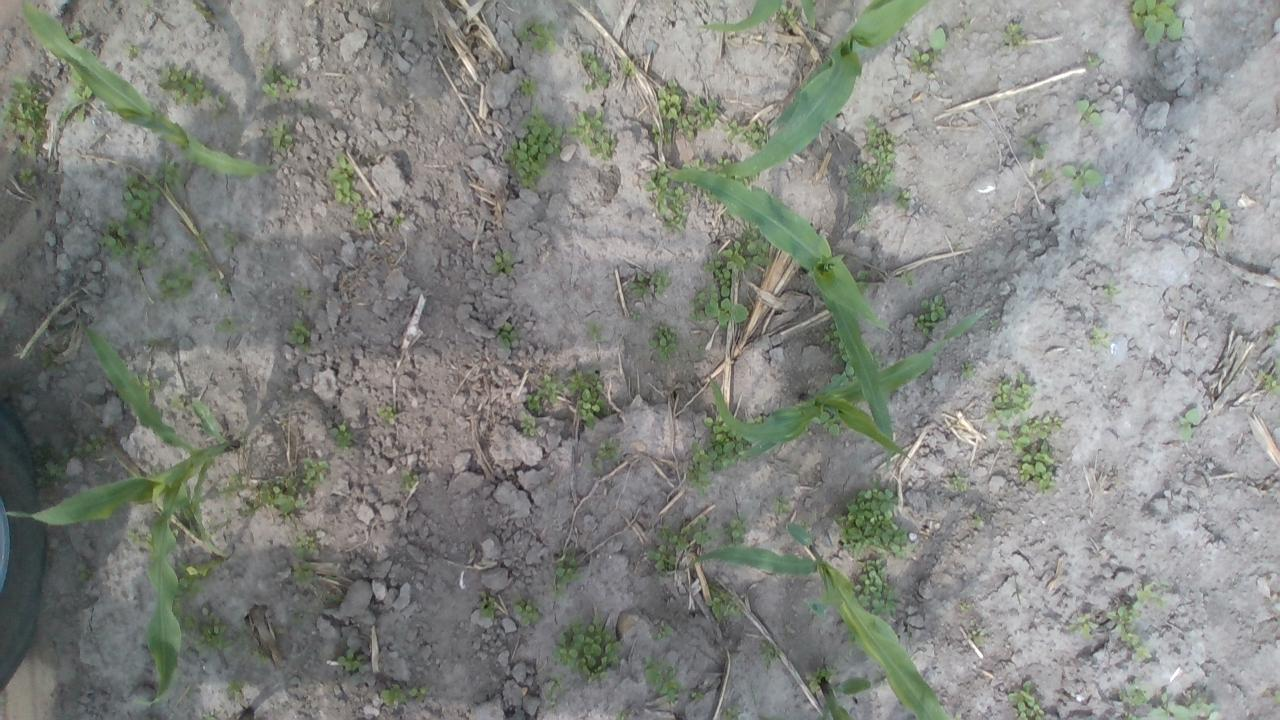Maize: (1, 322, 240, 706), (658, 166, 895, 465), (692, 523, 962, 720), (17, 0, 275, 180), (710, 308, 988, 456), (708, 0, 936, 179), (695, 0, 820, 32), (810, 672, 872, 720)
Weeds: (834, 482, 916, 561), (500, 107, 562, 191), (554, 616, 624, 684), (844, 160, 895, 230), (642, 162, 691, 231), (154, 64, 227, 109), (846, 554, 898, 617), (702, 411, 754, 471), (0, 74, 46, 135), (565, 109, 619, 160), (1129, 0, 1186, 48), (998, 414, 1062, 456), (690, 285, 751, 329), (982, 371, 1032, 422), (124, 171, 162, 235), (187, 608, 240, 652), (568, 368, 604, 430), (172, 558, 225, 600), (256, 472, 306, 516), (703, 241, 749, 286), (1150, 691, 1220, 720), (676, 95, 720, 140), (738, 218, 774, 272), (326, 152, 362, 204), (644, 654, 682, 703), (188, 248, 225, 296), (515, 14, 559, 54), (911, 294, 948, 340), (706, 582, 746, 623), (1018, 450, 1056, 493), (58, 83, 94, 128), (723, 118, 771, 151), (684, 439, 711, 497), (526, 373, 566, 412), (1006, 680, 1044, 720), (98, 216, 134, 258), (550, 550, 582, 597), (1061, 160, 1105, 194), (158, 262, 193, 304), (862, 115, 896, 158), (576, 50, 610, 92), (658, 78, 686, 129), (262, 65, 301, 100), (1127, 580, 1170, 610), (1206, 198, 1234, 243), (654, 519, 690, 553), (38, 452, 72, 488), (630, 269, 672, 298), (648, 324, 678, 364), (1106, 604, 1142, 636), (128, 238, 160, 272), (683, 514, 714, 548), (831, 347, 857, 386), (1115, 678, 1151, 706), (804, 660, 832, 696), (158, 157, 184, 195), (1076, 98, 1106, 130), (590, 438, 620, 470), (646, 543, 678, 573), (300, 454, 328, 488), (1174, 406, 1202, 439), (815, 408, 845, 438), (512, 598, 543, 626), (1121, 632, 1151, 660), (718, 516, 748, 544), (336, 647, 366, 675), (379, 682, 411, 708), (1068, 612, 1099, 638), (1024, 132, 1052, 160), (284, 318, 312, 346), (1256, 366, 1280, 398), (293, 533, 321, 559), (328, 421, 353, 450), (820, 319, 844, 349), (18, 128, 40, 160), (724, 170, 759, 190), (134, 372, 162, 397), (908, 45, 932, 74), (494, 321, 520, 347), (125, 530, 153, 554), (270, 122, 294, 150), (1000, 20, 1024, 48), (292, 559, 316, 586), (1087, 324, 1111, 350), (58, 54, 82, 80), (478, 590, 498, 620), (222, 472, 244, 499), (545, 672, 563, 704), (775, 2, 801, 24), (759, 639, 779, 666), (928, 26, 946, 56), (490, 250, 513, 273), (1102, 277, 1124, 301), (222, 224, 242, 250), (516, 77, 538, 99), (17, 166, 40, 187), (807, 596, 828, 618), (854, 268, 870, 296), (352, 204, 372, 226), (72, 440, 98, 456), (171, 599, 186, 626), (520, 413, 536, 438), (36, 349, 56, 369), (222, 677, 243, 696), (650, 126, 672, 144), (680, 158, 706, 173), (77, 562, 91, 587), (773, 499, 792, 517), (127, 43, 145, 62), (896, 190, 914, 209), (376, 406, 395, 423), (960, 360, 977, 379), (217, 318, 240, 332), (970, 627, 986, 646), (618, 56, 634, 75), (655, 623, 673, 639), (409, 684, 429, 698), (704, 187, 720, 204), (948, 475, 965, 491), (718, 707, 738, 720), (1266, 324, 1280, 342), (398, 473, 416, 487), (254, 646, 267, 665), (1039, 166, 1055, 181), (194, 229, 208, 246), (716, 156, 735, 168), (1086, 54, 1102, 68), (901, 270, 915, 286), (588, 320, 600, 338), (64, 29, 82, 41), (392, 211, 405, 226), (690, 342, 706, 354), (744, 415, 765, 424), (690, 689, 704, 702), (1122, 711, 1142, 720), (168, 397, 180, 411), (298, 287, 310, 298), (1271, 690, 1280, 704), (303, 102, 312, 116), (614, 709, 625, 720), (799, 518, 809, 530), (972, 514, 983, 524), (632, 312, 642, 322), (723, 209, 732, 219), (988, 318, 998, 326), (1274, 356, 1280, 368)
